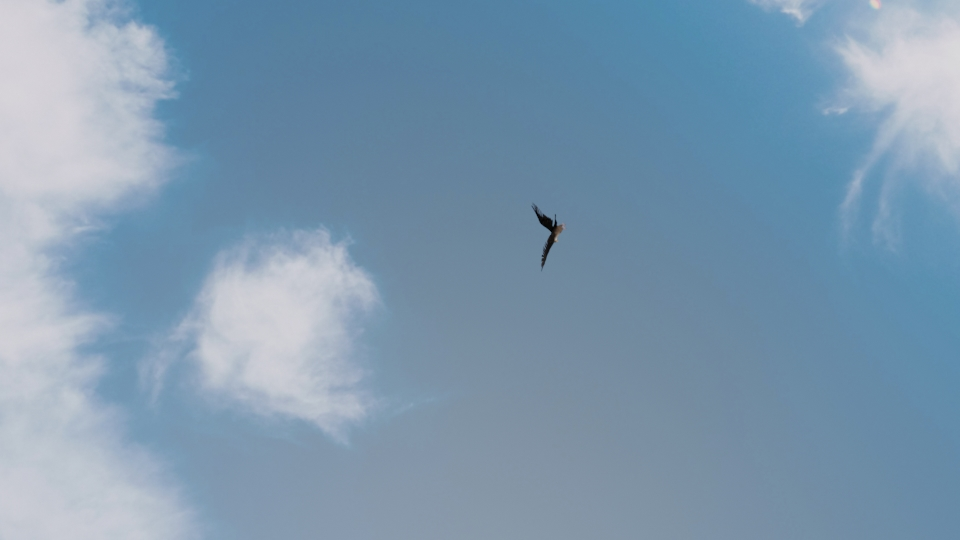bird: (530, 200, 564, 271)
